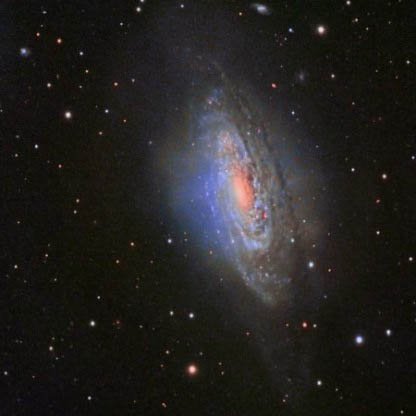NGC 3521: (57, 19, 368, 375)
